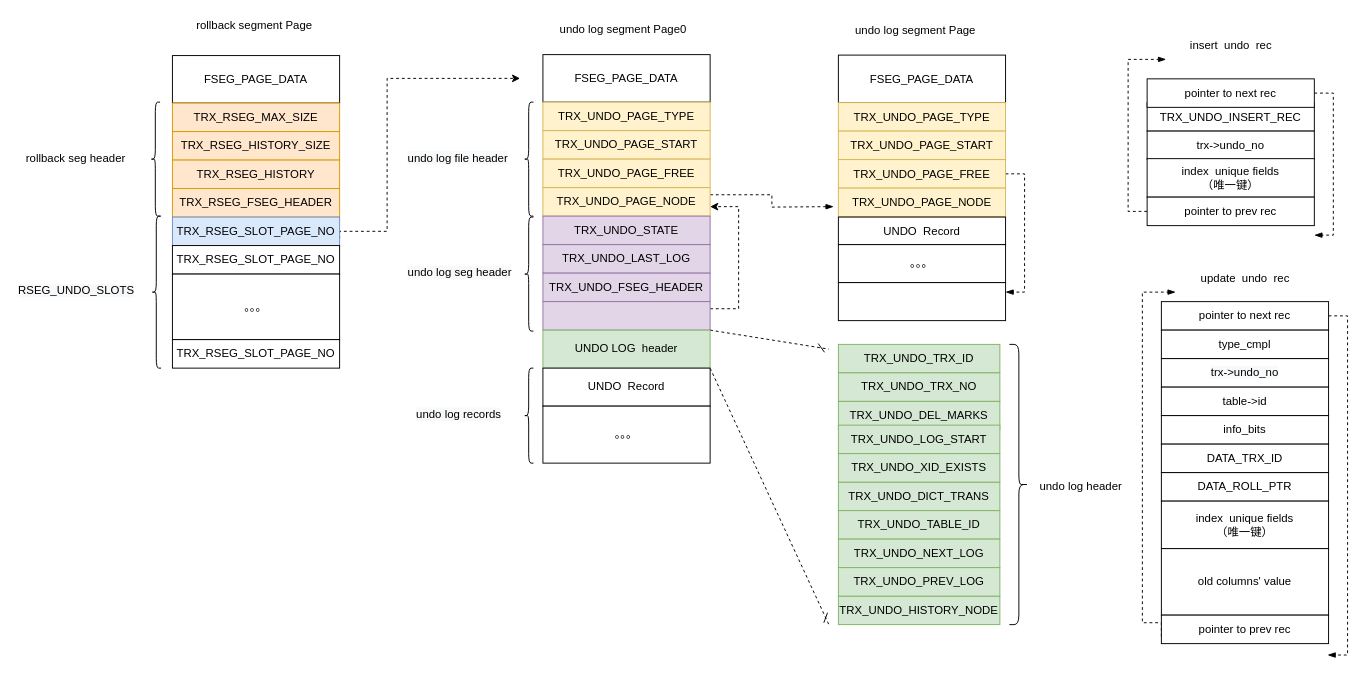
Some shapes in this 1372 by 679 pixel diagram are drawn without their labels. The centre of each missing label's shape, as x and y in pixels:
"free space" belongs at (921,301).
"TRX_UNDO_PAGE_LIST" belongs at (626,315).
